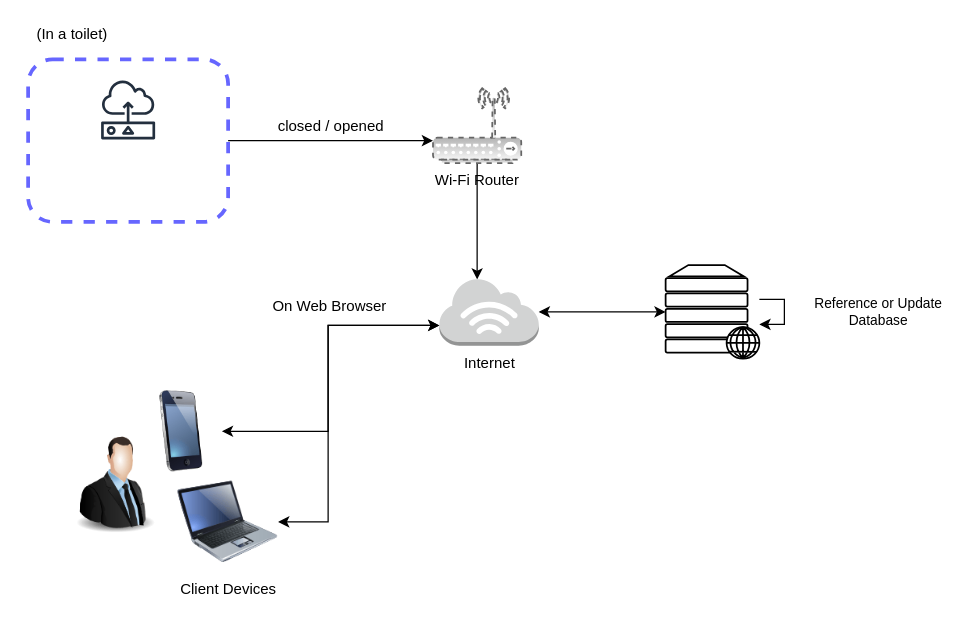
This 963x619 diagram has some shape labels left out. The box of each missing label's shape, as (x1, y1, x2, y2) in pixels:
Sensor (ESPr Door Sensor): (89, 71, 166, 147)
Web Server (Phisical or Virtual): (664, 263, 760, 359)
